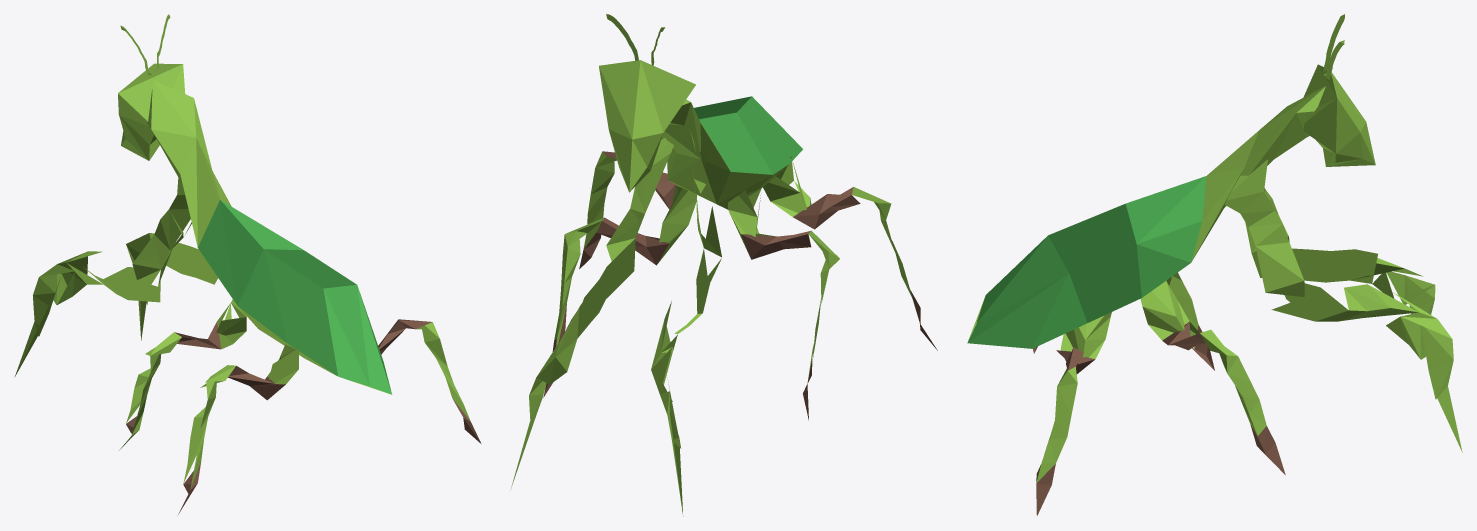
File: mantis.glb
The picture shows the model from 3 angles, left to right: view 1: azimuth 30°, elevation 25°; view 2: azimuth 150°, elevation 25°; view 3: azimuth 270°, elevation 25°; orthographic projection. The views are drawn at different scales.
Parts seen in each view (by area): view 1: Node; view 2: Node; view 3: Node.
Part boxes in pixels (x1,y1,x2,y2): Node: (14, 14, 481, 514); Node: (510, 14, 937, 516); Node: (967, 14, 1462, 515).
Bounding box in the file's own units: 0.6261 × 0.7329 × 0.8231.
